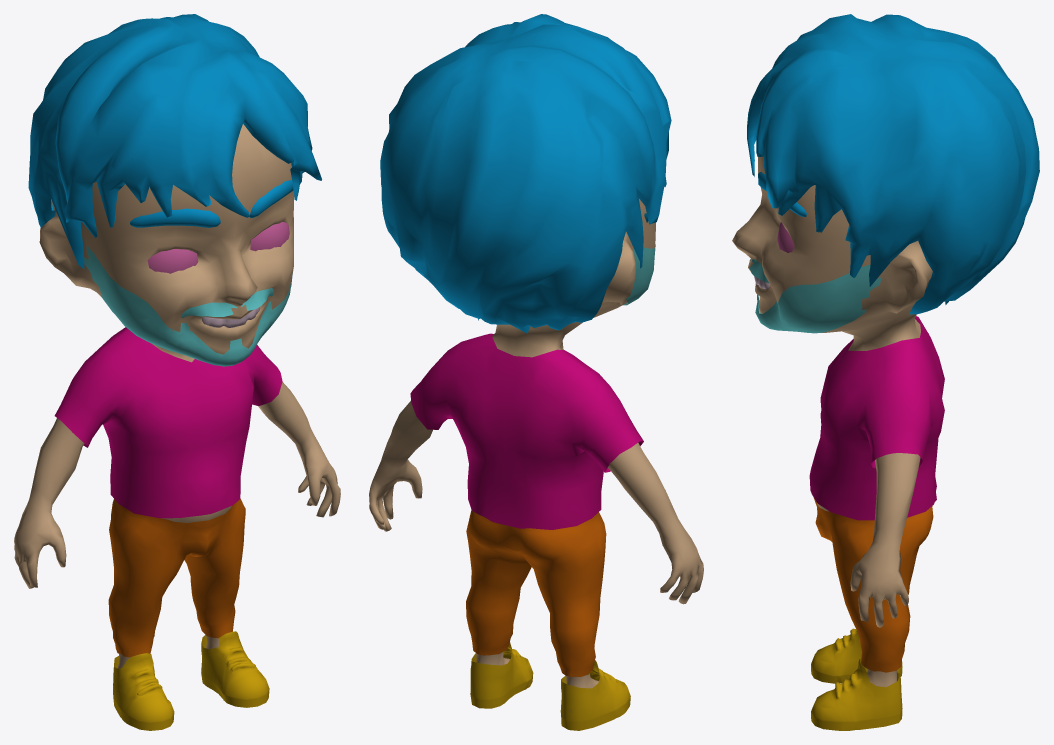
The model's file is Valerio_Simp.fbx.
3 views of the same model, side by side, from view 1: azimuth 30°, elevation 25°; view 2: azimuth 150°, elevation 25°; view 3: azimuth 270°, elevation 25° (orthographic). The views are drawn at different scales.
Visible parts, largest first — view 1: Hair_low, Body_low, Shirt_low, Pants_low, Shoes_low, Beard_low, EyeBrows_Low, Eyes_low; view 2: Hair_low, Shirt_low, Pants_low, Body_low, Shoes_low, Beard_low; view 3: Hair_low, Body_low, Shirt_low, Pants_low, Shoes_low, Beard_low.
Part boxes in pixels (left/top/right/bottom): Hair_low: left=28, top=14, right=321, bottom=268; Body_low: left=14, top=124, right=340, bottom=668; Shirt_low: left=54, top=327, right=282, bottom=518; Pants_low: left=108, top=498, right=245, bottom=657; Shoes_low: left=113, top=631, right=269, bottom=730; Beard_low: left=84, top=246, right=293, bottom=366; EyeBrows_Low: left=130, top=180, right=293, bottom=227; Eyes_low: left=147, top=222, right=289, bottom=273; Hair_low: left=380, top=14, right=671, bottom=333; Shirt_low: left=410, top=333, right=643, bottom=529; Pants_low: left=466, top=510, right=606, bottom=676; Body_low: left=369, top=199, right=703, bottom=712; Shoes_low: left=470, top=642, right=630, bottom=730; Beard_low: left=623, top=244, right=655, bottom=305; Hair_low: left=747, top=14, right=1039, bottom=314; Body_low: left=732, top=156, right=932, bottom=701; Shirt_low: left=809, top=316, right=944, bottom=520; Pants_low: left=814, top=498, right=933, bottom=672; Shoes_low: left=811, top=628, right=902, bottom=730; Beard_low: left=749, top=259, right=884, bottom=333.
Size of the model in its own units: 83.97 by 168 by 70.14.
